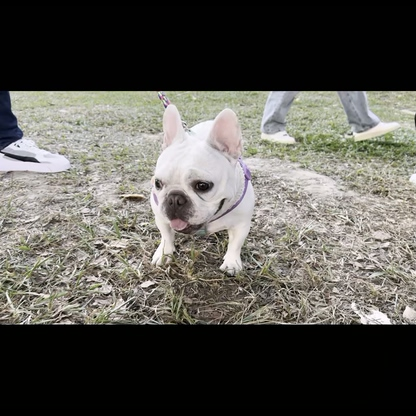bulldog: (140, 101, 262, 277)
